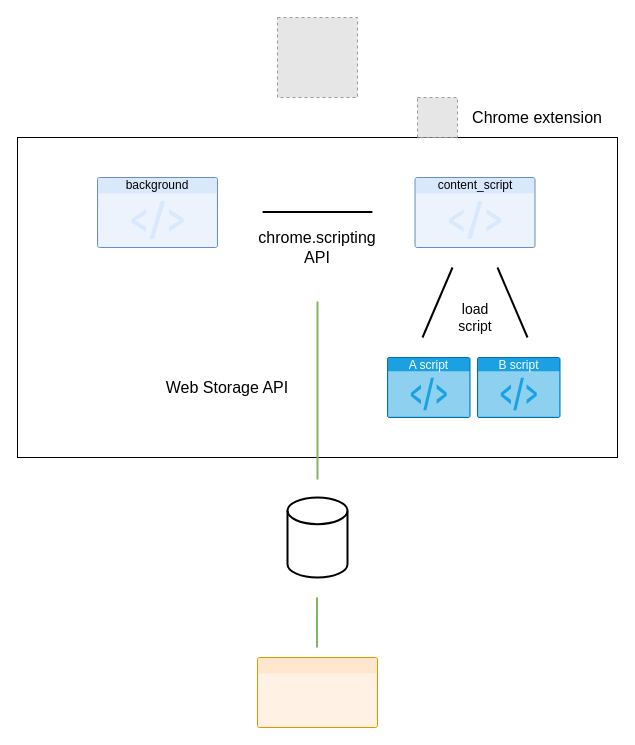
Image size: 635x745. Some labels were removed from this diagram. Grey dashed boxes stand in for pictures. Each missing label, with the centre of its shape:
storage: (317,537)
外部サイト: (317,692)
